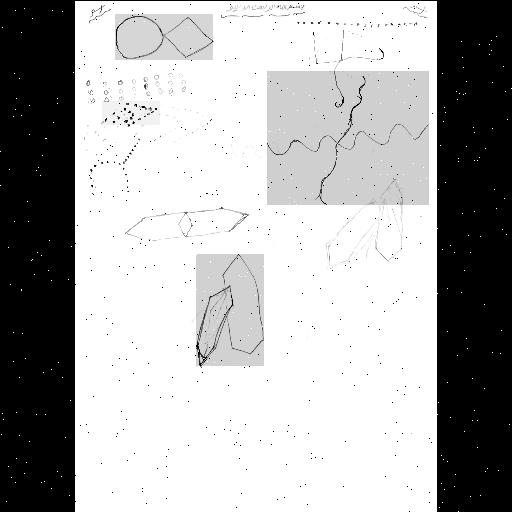shape-1: (115, 14, 213, 60)
shape-2: (296, 16, 418, 28)
shape-3: (84, 71, 188, 101)
shape-4: (102, 101, 160, 125)
shape-5: (314, 30, 382, 106)
shape-6: (90, 136, 142, 196)
shape-7: (267, 71, 429, 205)
shape-8: (196, 254, 264, 366)
shape-9: (126, 204, 250, 242)
